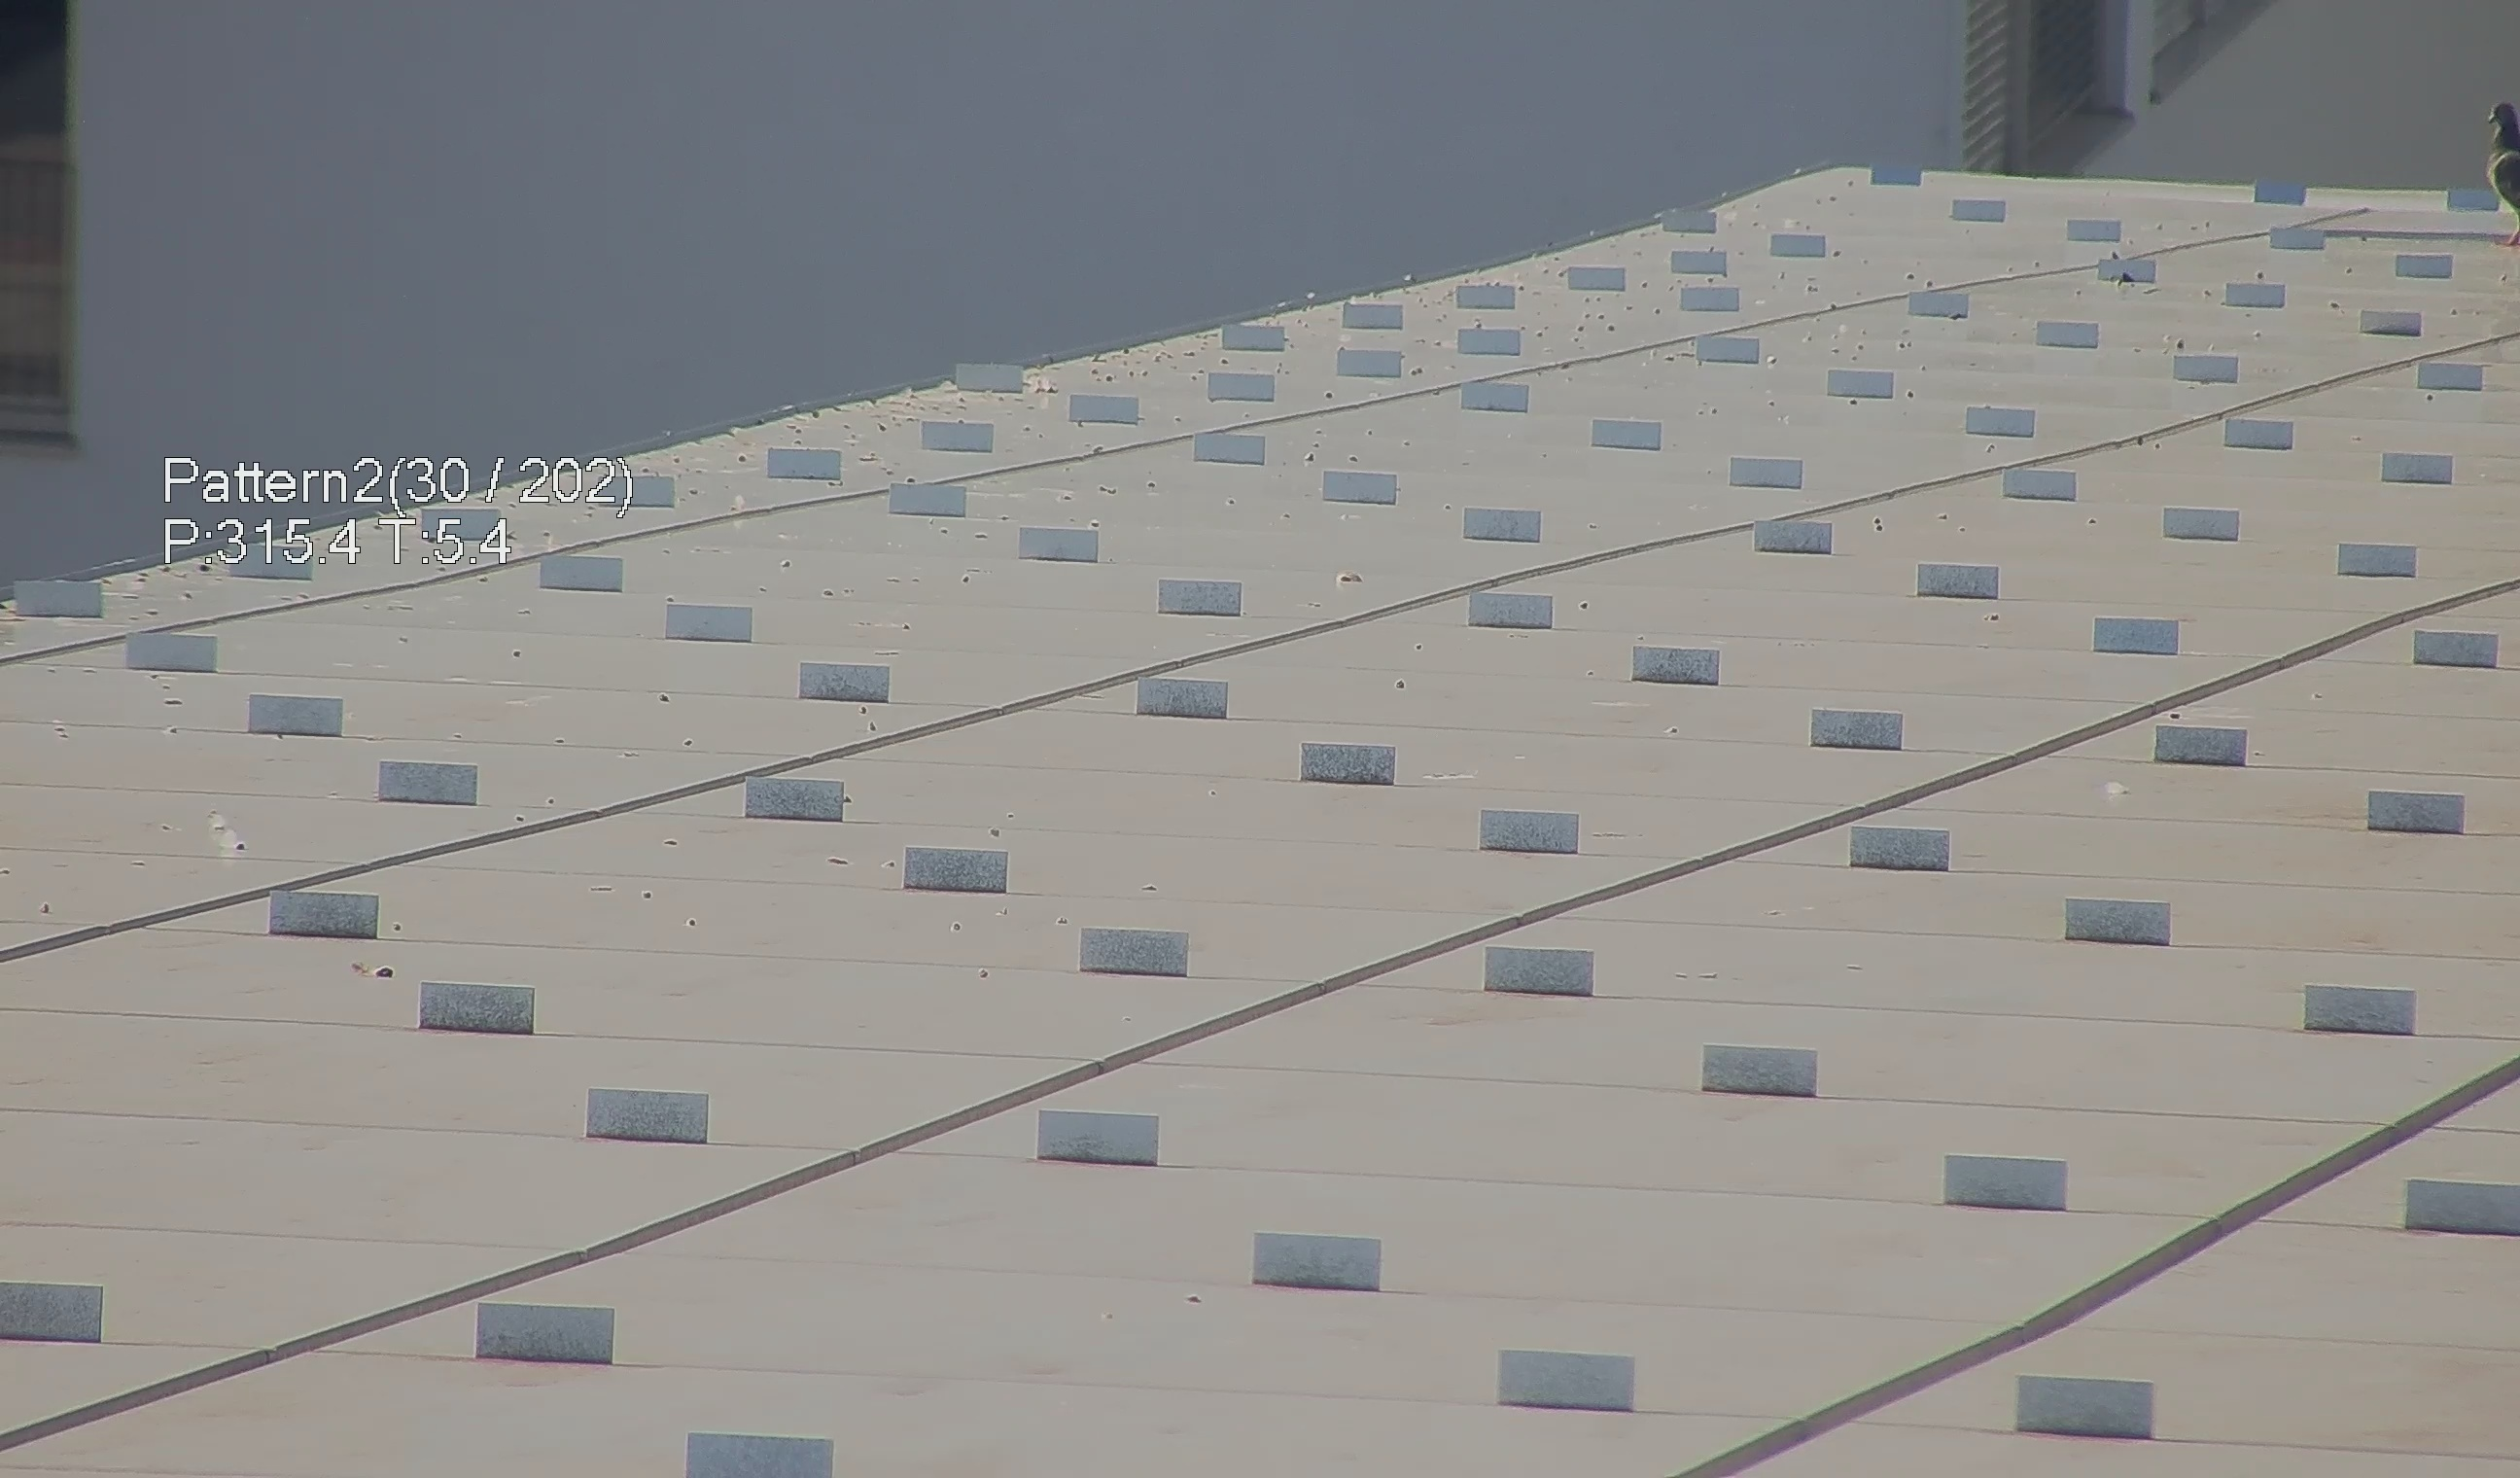Pigeon: (2488, 95, 2520, 255)
